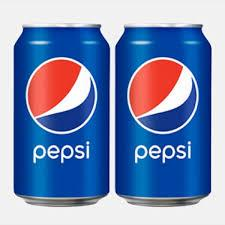can: (12, 14, 218, 212)
